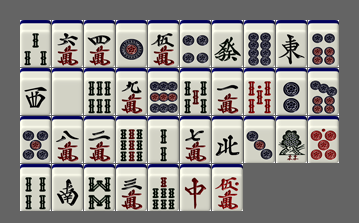0m: (212, 164, 243, 211)
0p: (308, 116, 339, 163)
0s: (244, 68, 275, 115)
1m: (212, 68, 243, 115)
1p: (116, 20, 147, 67)
1s: (276, 116, 307, 163)
1z: (276, 20, 307, 67)
2m: (84, 116, 115, 163)
2p: (276, 68, 307, 115)
2s: (148, 116, 179, 163)
2z: (52, 164, 83, 211)
3m: (116, 164, 147, 211)
3p: (244, 116, 275, 163)
3s: (20, 20, 51, 67)
3z: (20, 68, 51, 115)
4m: (84, 20, 115, 67)
4p: (180, 20, 211, 67)
4s: (20, 164, 51, 211)
4z: (212, 116, 243, 163)
5m: (148, 20, 179, 67)
5p: (20, 116, 51, 163)
5s: (180, 68, 211, 115)
5z: (52, 68, 83, 115)
6m: (52, 20, 83, 67)
6p: (308, 20, 339, 67)
6s: (84, 68, 115, 115)
6z: (212, 20, 243, 67)
7m: (180, 116, 211, 163)
7p: (308, 68, 339, 115)
7s: (148, 164, 179, 211)
7z: (180, 164, 211, 211)
8m: (52, 116, 83, 163)
8p: (244, 20, 275, 67)
8s: (84, 164, 115, 211)
9m: (116, 68, 147, 115)
9p: (148, 68, 179, 115)
9s: (116, 116, 147, 163)
